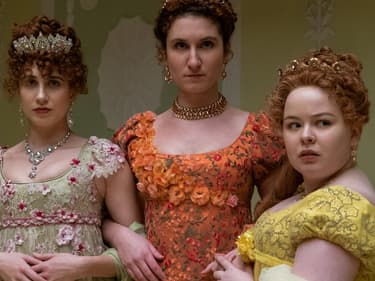without_mask: (283, 99, 343, 173), (165, 24, 224, 91), (19, 67, 67, 125)
